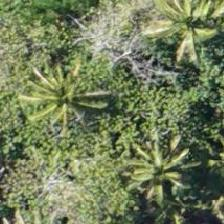coconut_tree: (15, 51, 105, 141), (118, 132, 208, 222), (146, 0, 223, 73)
